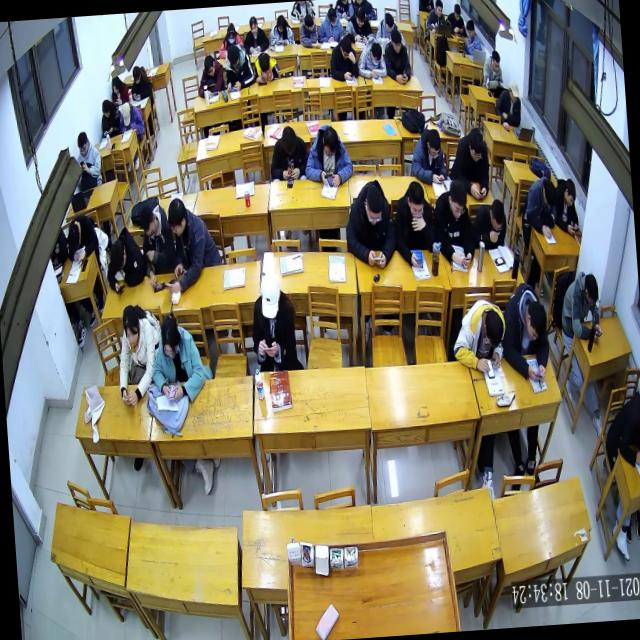bow: (102, 223, 143, 293), (61, 213, 99, 259), (252, 46, 282, 84)
down: (157, 311, 183, 361), (256, 272, 282, 318), (524, 296, 548, 342), (361, 180, 384, 226), (406, 177, 426, 224), (482, 307, 503, 349), (448, 180, 468, 220), (138, 207, 160, 240), (466, 126, 484, 164), (582, 272, 600, 308), (320, 122, 338, 156), (109, 240, 128, 272), (488, 198, 505, 233), (280, 126, 297, 158), (424, 128, 440, 160), (64, 222, 82, 250), (540, 180, 556, 210), (562, 178, 578, 208), (76, 129, 90, 158), (226, 44, 241, 70), (257, 51, 271, 76), (390, 26, 402, 55), (119, 100, 132, 126), (368, 42, 382, 66), (339, 36, 352, 59), (507, 80, 519, 104), (354, 5, 366, 28), (325, 8, 338, 28), (274, 15, 287, 35), (110, 73, 122, 94), (248, 14, 259, 36), (100, 97, 111, 119), (384, 12, 396, 32), (204, 56, 216, 76), (131, 63, 142, 84), (490, 49, 500, 72), (452, 2, 463, 22), (466, 16, 476, 37), (225, 23, 236, 42)
lookup: (120, 306, 140, 348), (434, 0, 443, 16)
sit: (160, 195, 222, 292), (495, 276, 554, 376), (147, 310, 207, 404), (113, 300, 167, 404), (248, 269, 300, 369), (448, 296, 510, 378), (342, 178, 397, 270), (389, 178, 438, 268), (429, 176, 475, 264), (136, 201, 177, 290), (300, 122, 354, 188), (601, 383, 640, 473), (447, 123, 492, 200), (557, 271, 603, 344), (518, 173, 559, 236), (266, 125, 308, 181), (407, 126, 447, 184), (470, 197, 510, 251), (73, 128, 104, 190), (382, 25, 412, 84), (553, 174, 581, 236), (326, 34, 361, 82), (221, 41, 255, 88), (493, 78, 522, 129), (356, 34, 388, 80), (192, 54, 225, 96), (342, 3, 374, 46), (372, 10, 404, 46), (97, 94, 122, 139), (316, 6, 345, 44), (479, 48, 504, 90), (241, 15, 269, 52), (117, 100, 145, 135), (216, 20, 243, 56), (266, 12, 294, 46), (129, 62, 153, 100), (298, 12, 319, 49), (444, 3, 466, 37), (461, 16, 481, 53), (424, 0, 445, 34), (108, 74, 130, 104), (289, 1, 317, 24), (333, 0, 356, 21), (351, 0, 375, 20), (418, 0, 434, 14)
